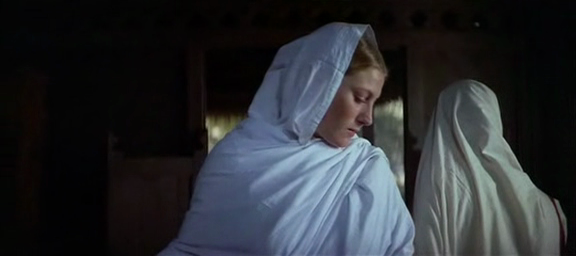face: (326, 77, 382, 148)
mcu: (1, 1, 576, 256)
person: (154, 22, 416, 256)
